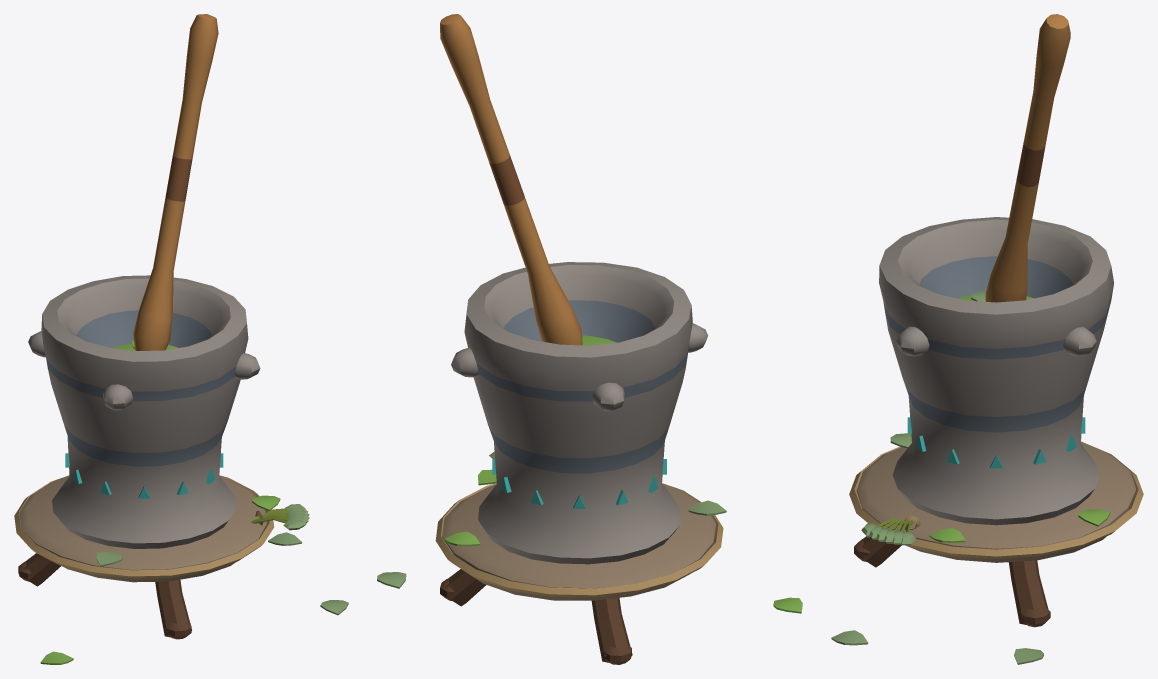
Rendered from deco_mortar_pestle.fbx.
The picture shows the model from 3 angles, left to right: view 1: azimuth 30°, elevation 25°; view 2: azimuth 150°, elevation 25°; view 3: azimuth 270°, elevation 25°; orthographic projection. The views are drawn at different scales.
Visible parts, largest first — view 1: MortarPestle_Mortar, MortarPestle_Stand, MortarPestle_Pestle, MortarPestle_Herbs; view 2: MortarPestle_Mortar, MortarPestle_Stand, MortarPestle_Pestle, MortarPestle_Herbs; view 3: MortarPestle_Mortar, MortarPestle_Stand, MortarPestle_Pestle, MortarPestle_Herbs.
Part boxes in pixels (left/top/right/bottom): MortarPestle_Mortar: left=28, top=275, right=260, bottom=548; MortarPestle_Stand: left=14, top=475, right=274, bottom=639; MortarPestle_Pestle: left=133, top=14, right=218, bottom=350; MortarPestle_Herbs: left=40, top=340, right=348, bottom=664; MortarPestle_Mortar: left=451, top=262, right=708, bottom=564; MortarPestle_Stand: left=435, top=483, right=723, bottom=664; MortarPestle_Pestle: left=440, top=14, right=582, bottom=345; MortarPestle_Herbs: left=377, top=335, right=802, bottom=613; MortarPestle_Mortar: left=879, top=217, right=1113, bottom=525; MortarPestle_Stand: left=849, top=441, right=1143, bottom=627; MortarPestle_Pestle: left=985, top=14, right=1070, bottom=302; MortarPestle_Herbs: left=831, top=290, right=1110, bottom=664.
Bounding box in the file's own units: 128 × 206 × 95.92.
